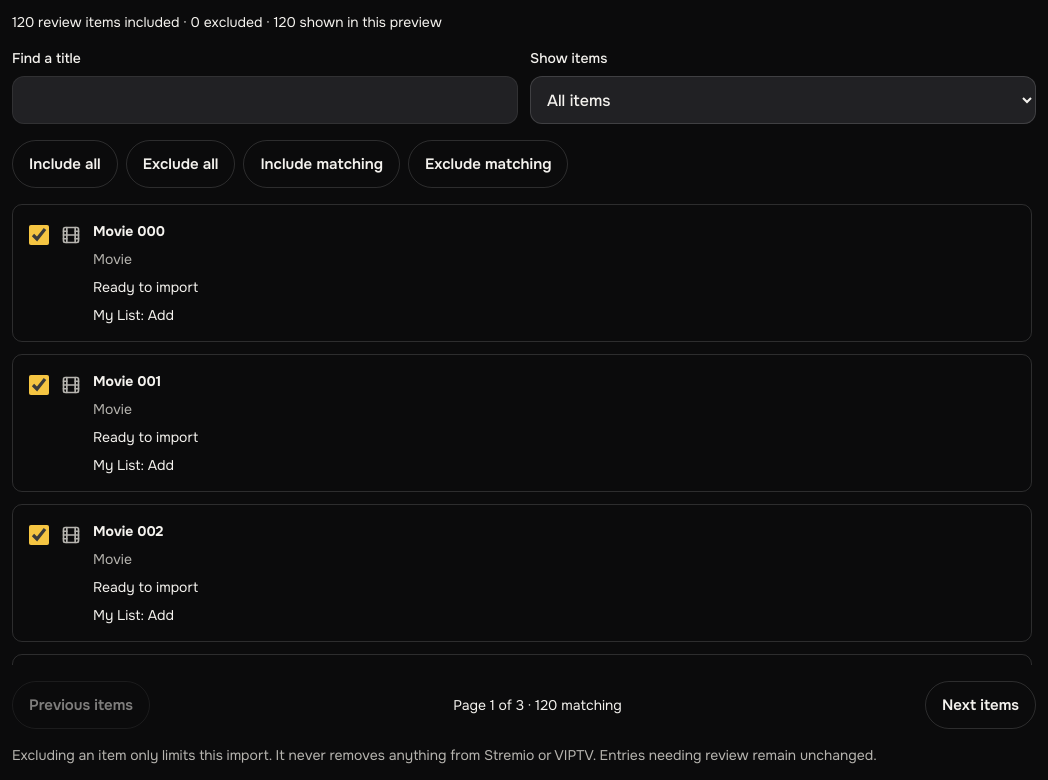
Test: named Stremio review › limits bulk exclusion to matching rows and can restore them from the excluded filter
Step 1. Type "Movie 11" into the search field labelled "Find a title" → (265, 100), box [12,76,518,124]
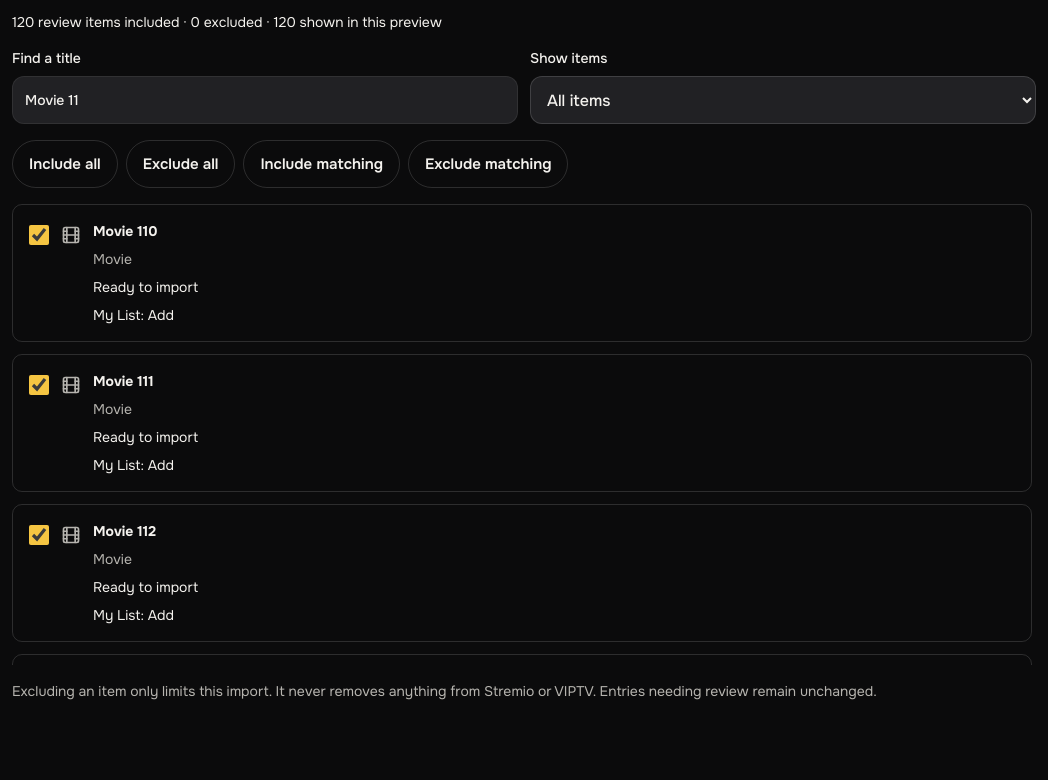
Step 2. Click the button "Exclude matching" → click(488, 164), box [408,140,568,188]
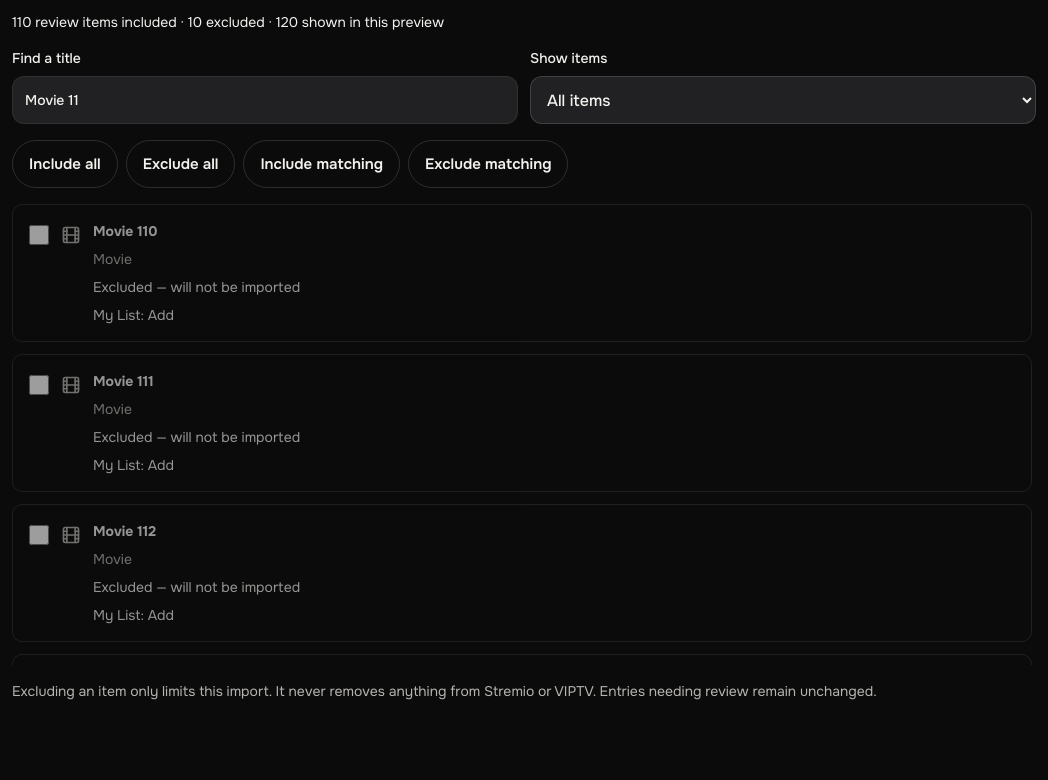
Step 3. Clear the search field labelled "Find a title" → (265, 100), box [12,76,518,124]
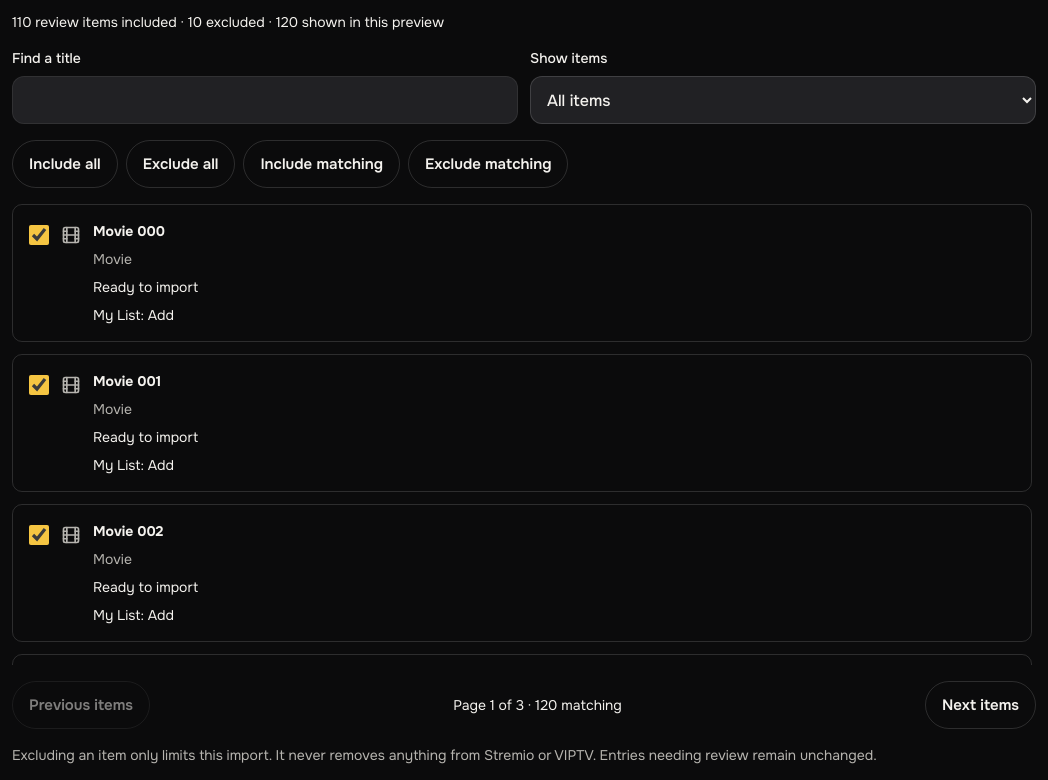
Check: the checkbox named "Include Movie 000" is checked, box [29,225,49,245]
Step 4. Select "Excluded items" in the dropdown labelled "Show items" → (783, 100), box [530,76,1036,124]
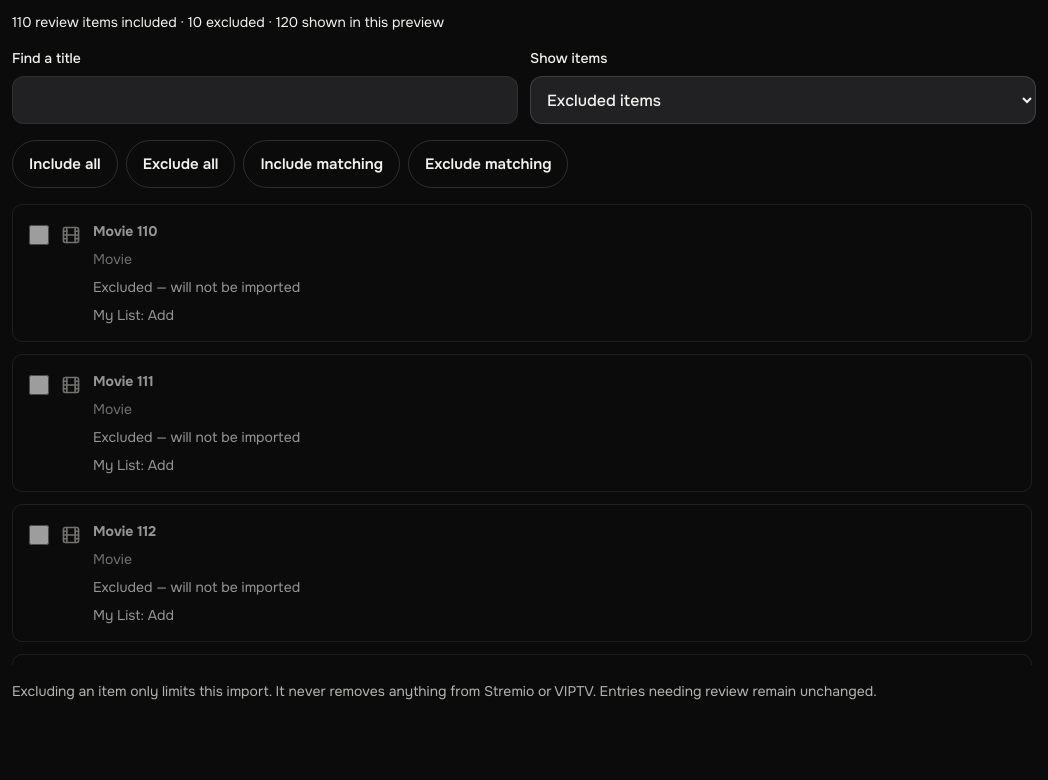
Step 5. Click the button "Include matching" → click(322, 164), box [243,140,400,188]
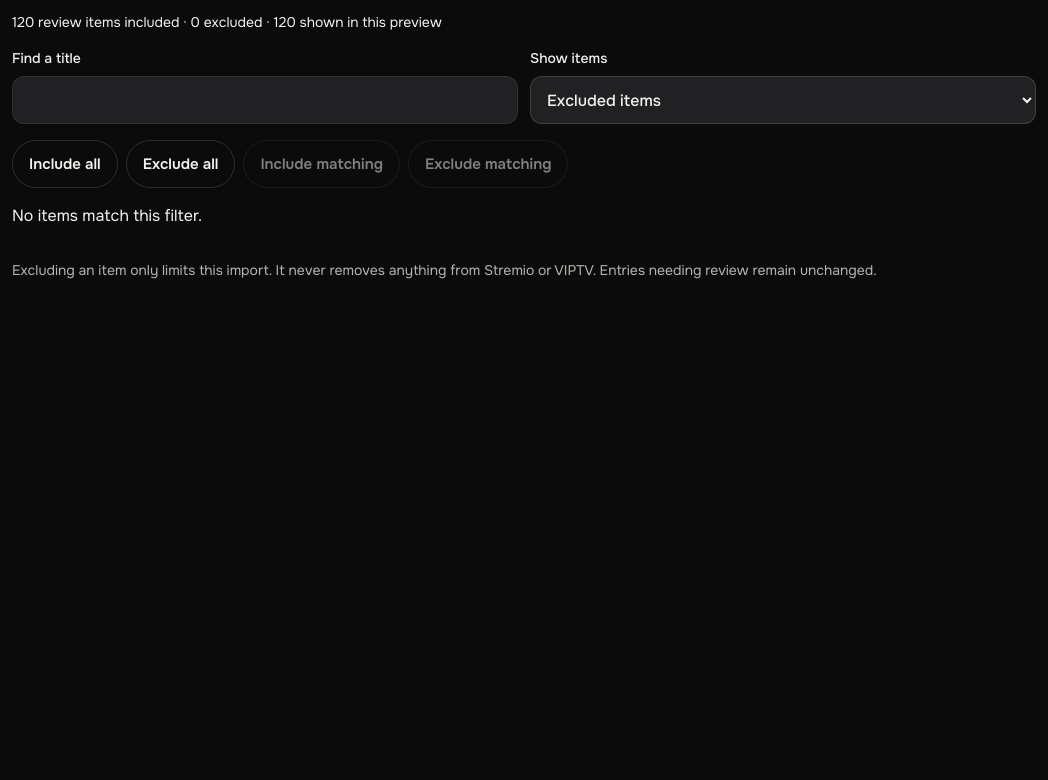
Check: the text "No items match this filter." is shown, box [12,205,202,226]
